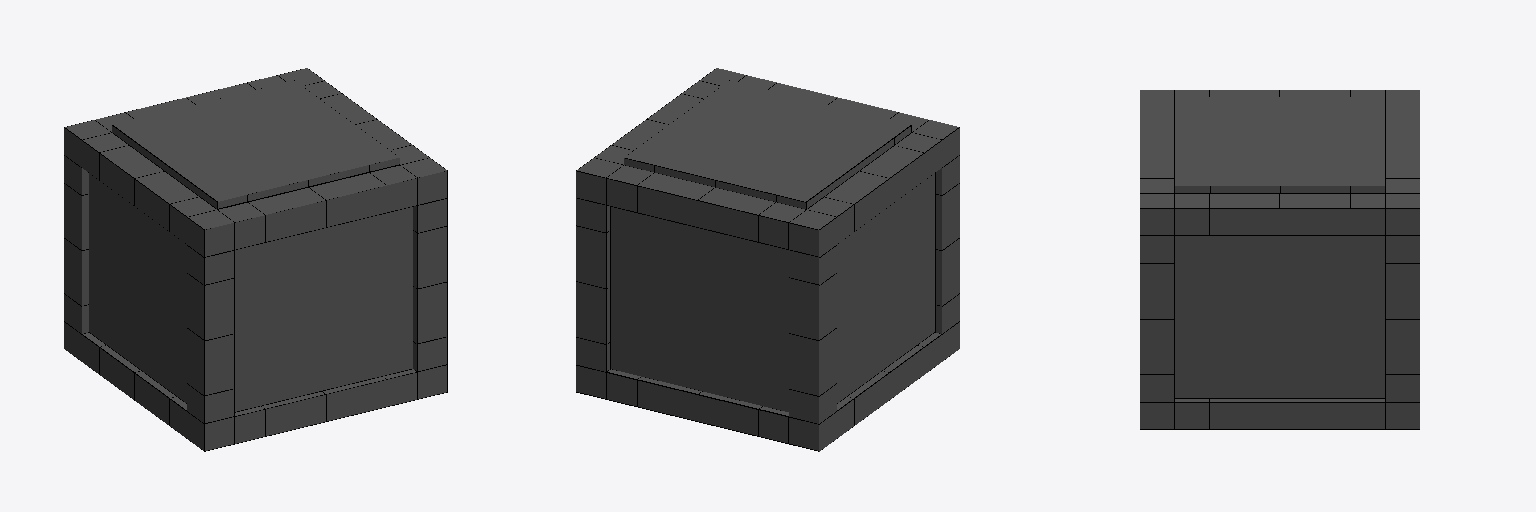
3 views of the same model, side by side, from view 1: azimuth 30°, elevation 25°; view 2: azimuth 150°, elevation 25°; view 3: azimuth 270°, elevation 25° (orthographic).
Visible parts, largest first — view 1: crate_Cube.001; view 2: crate_Cube.001; view 3: crate_Cube.001.
Boxes of the visible parts, x1=… form: crate_Cube.001: x1=64, y1=68, x2=447, y2=451; crate_Cube.001: x1=576, y1=68, x2=959, y2=451; crate_Cube.001: x1=1140, y1=90, x2=1419, y2=429.
Size of the model in its own units: 1 by 0.9019 by 1.
Materials: 1 (1 with a texture image).